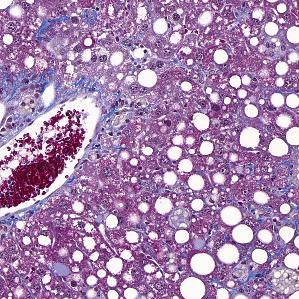fibrosis: (94, 88, 161, 135)
